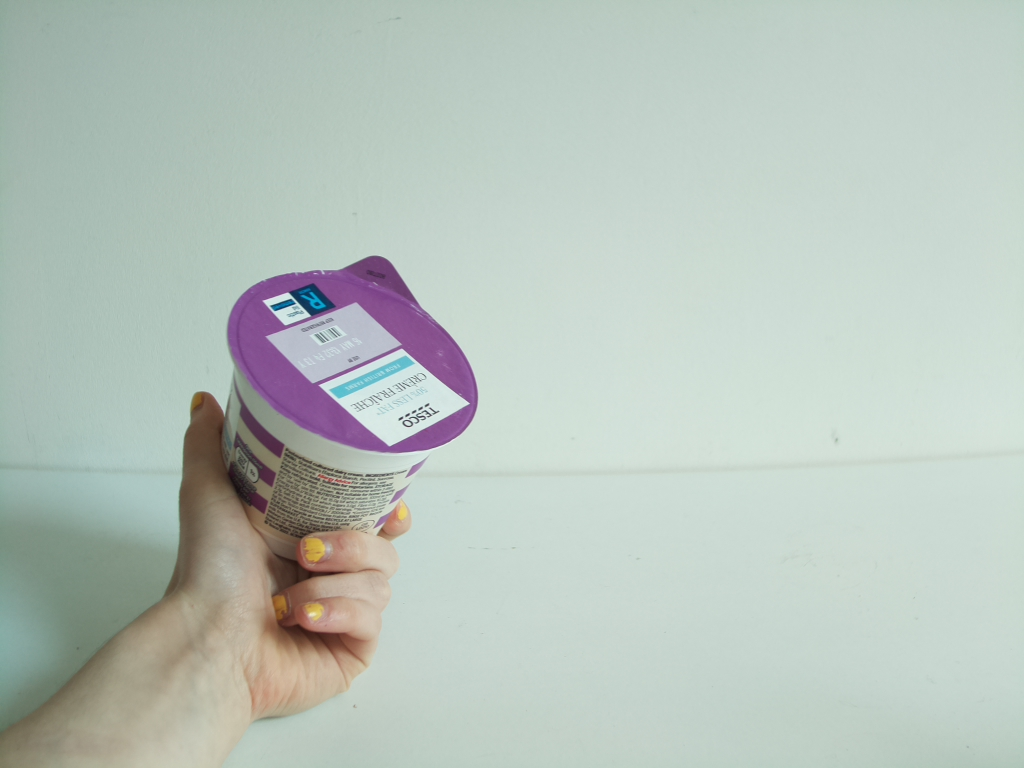cream: (210, 240, 482, 582)
